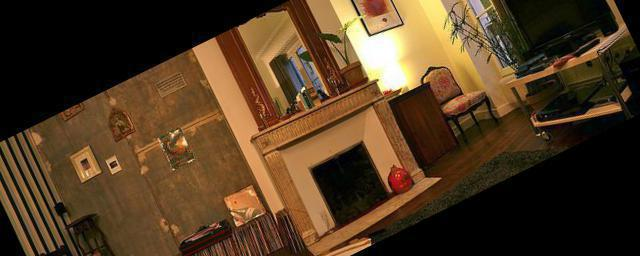Matera: (436, 0, 569, 139)
